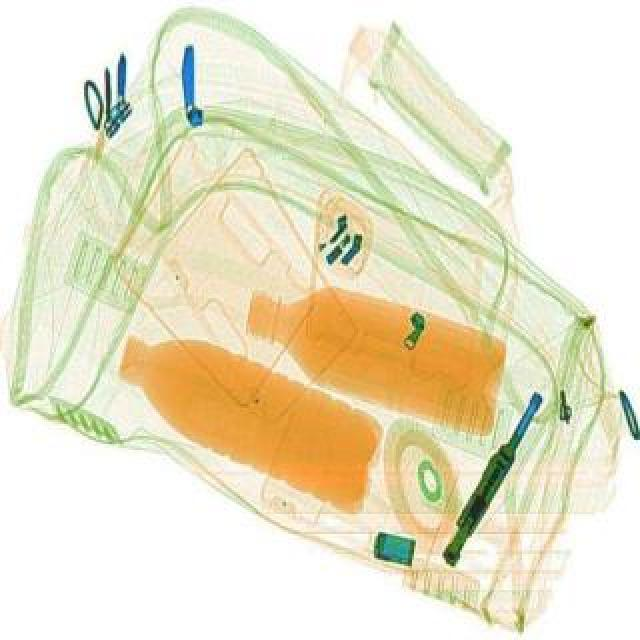gun: (436, 382, 548, 562)
